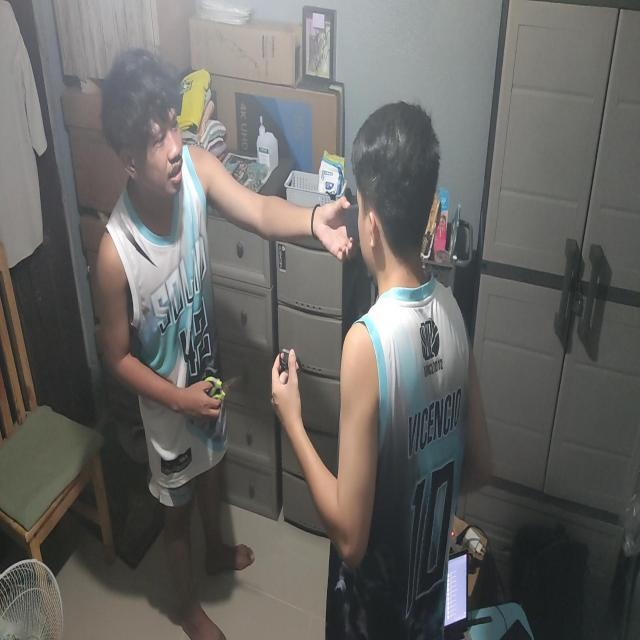scissor: (204, 372, 238, 413)
